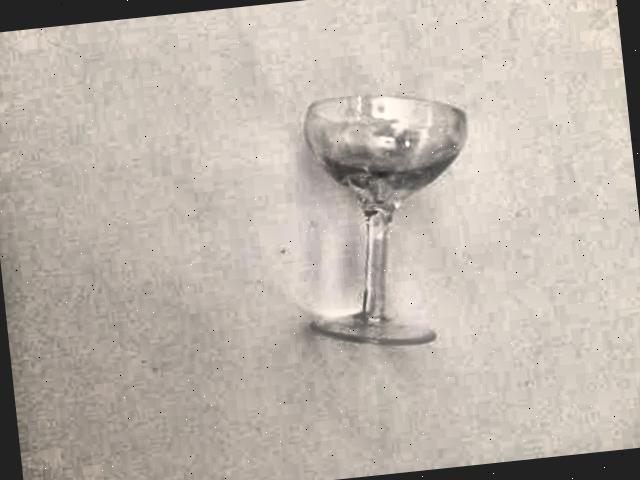Almennt: (249, 74, 496, 362)
